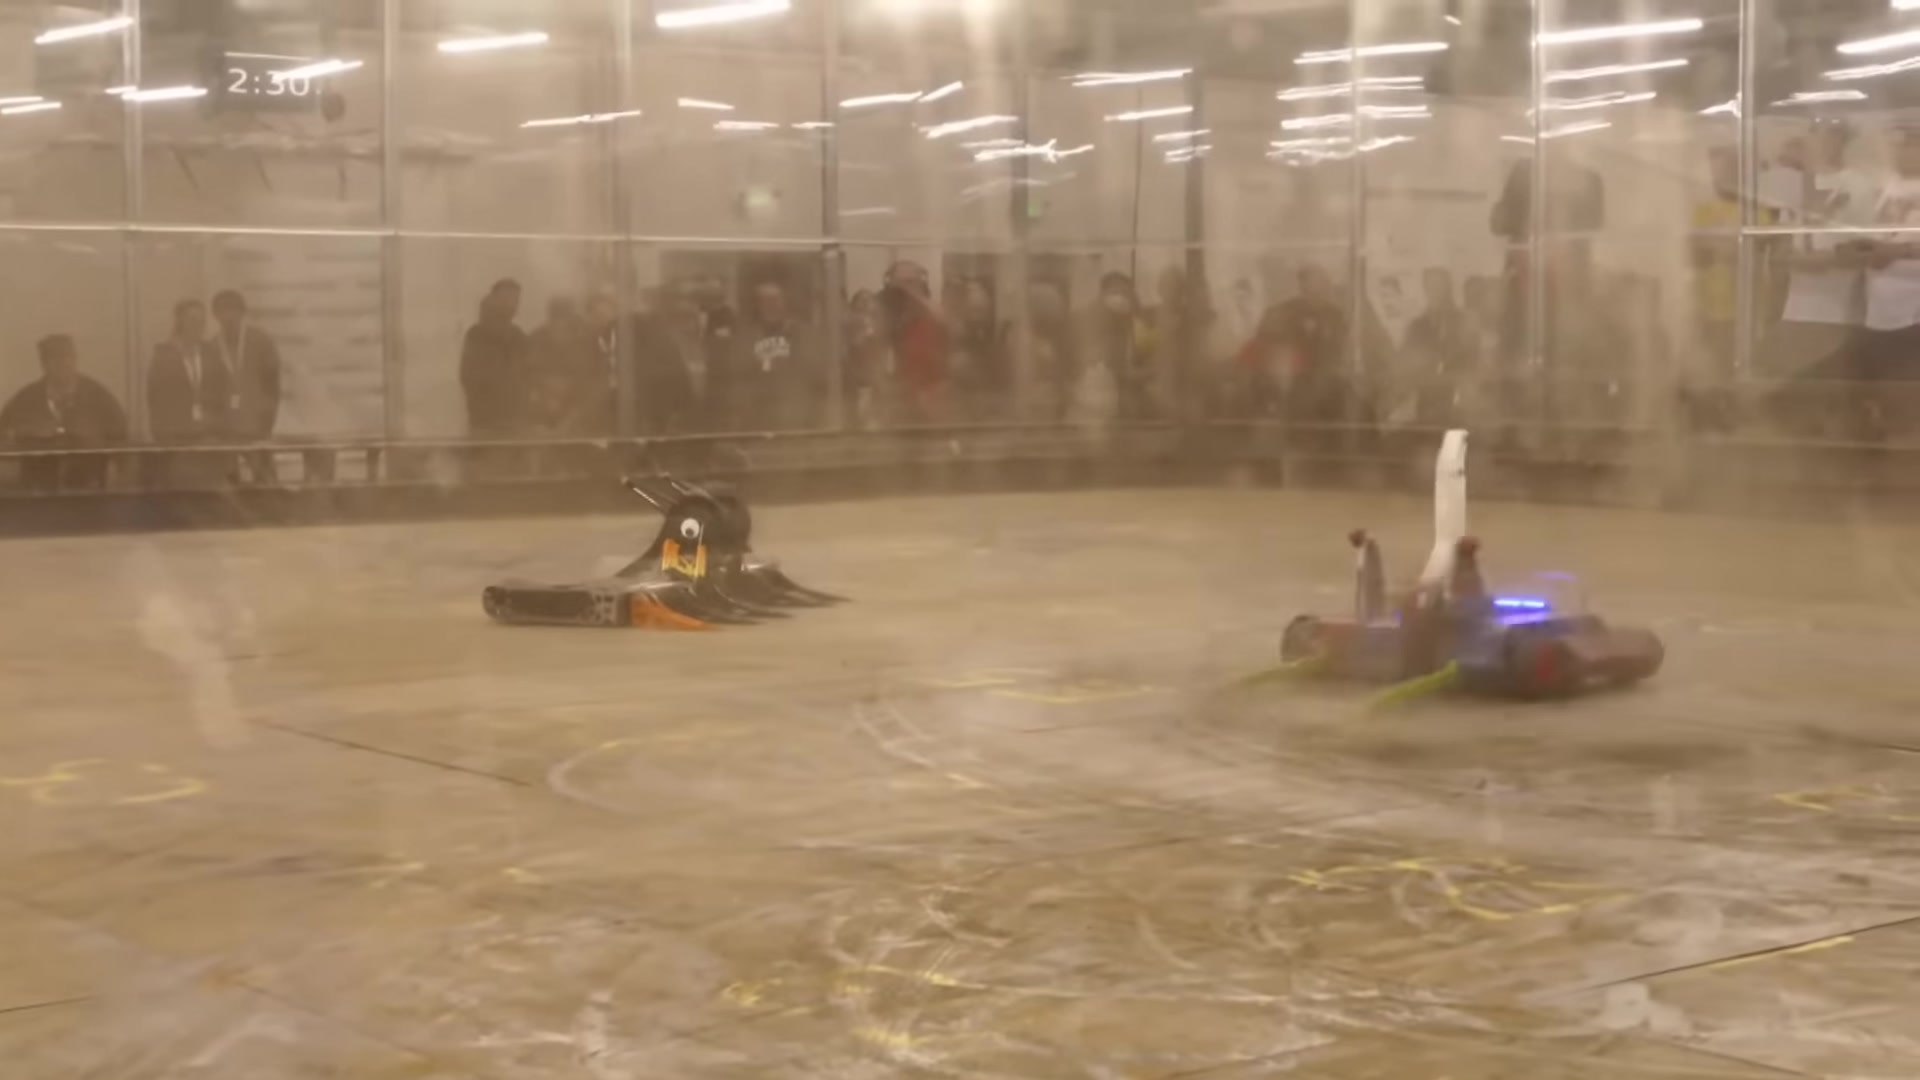combatbot: (1278, 434, 1664, 737), (481, 477, 855, 641)
